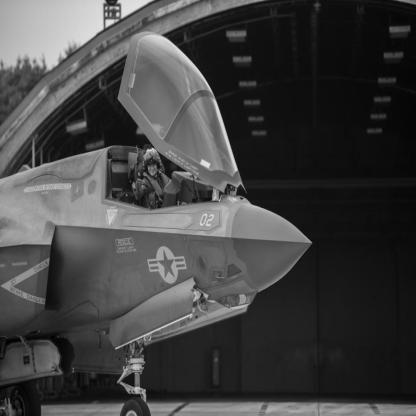F35: (1, 32, 314, 416)
